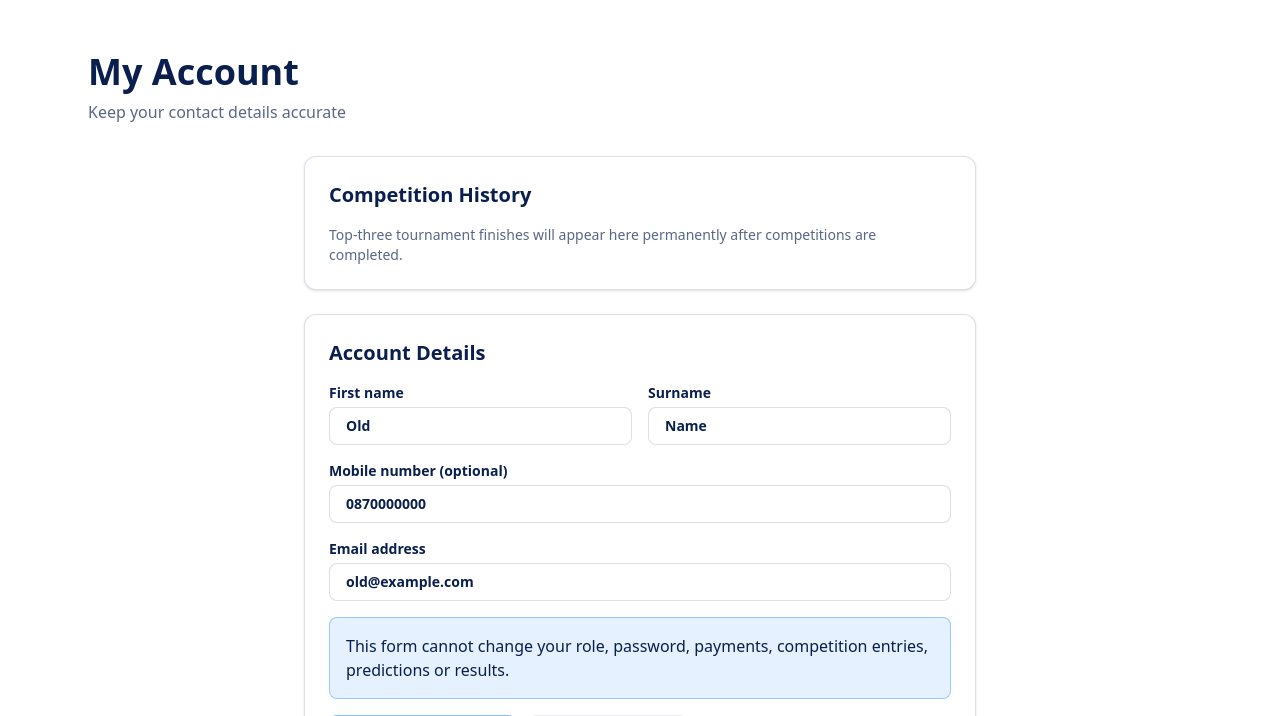
My Account page › loads editable details and saves a name correction
Replace the text in the field labelled "First name" with "New" at (480, 426), box [329,407,632,445]
(page scrolled)
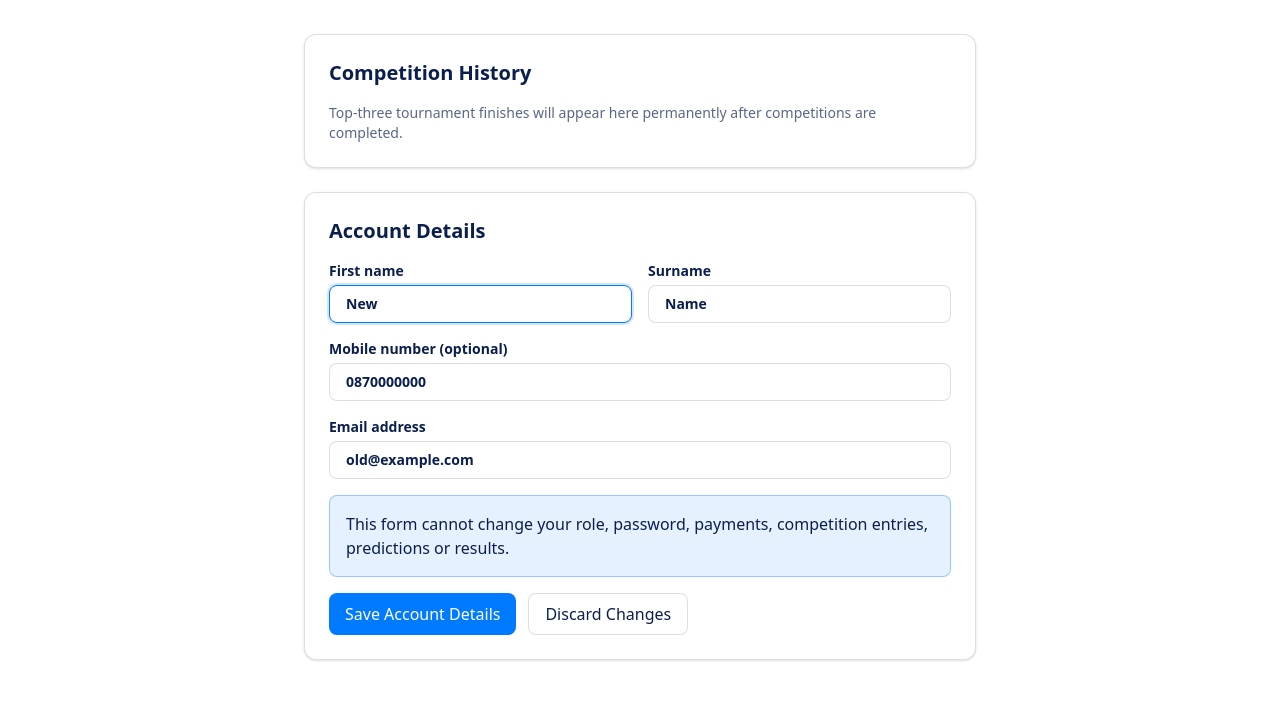
Click the button "Save Account Details".
click(423, 614)  # box [329,593,516,635]
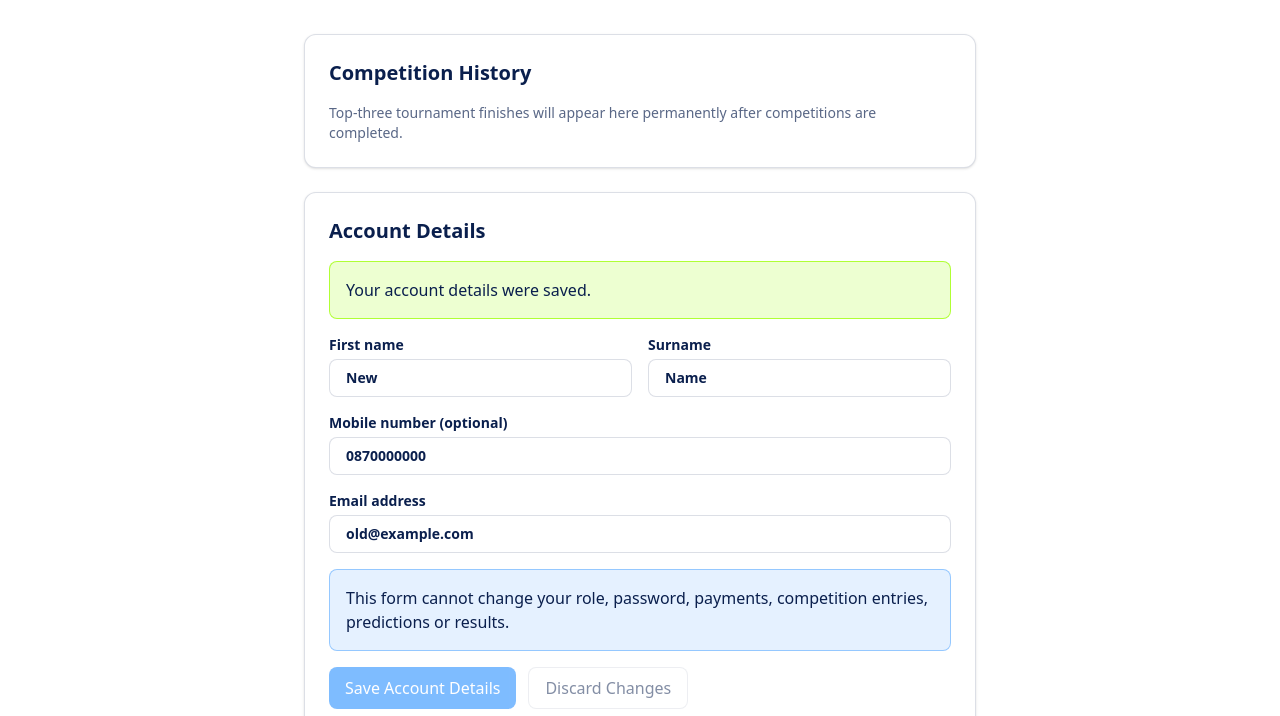
Check: the text "Your account details were saved." is shown, box [346,279,591,301]
